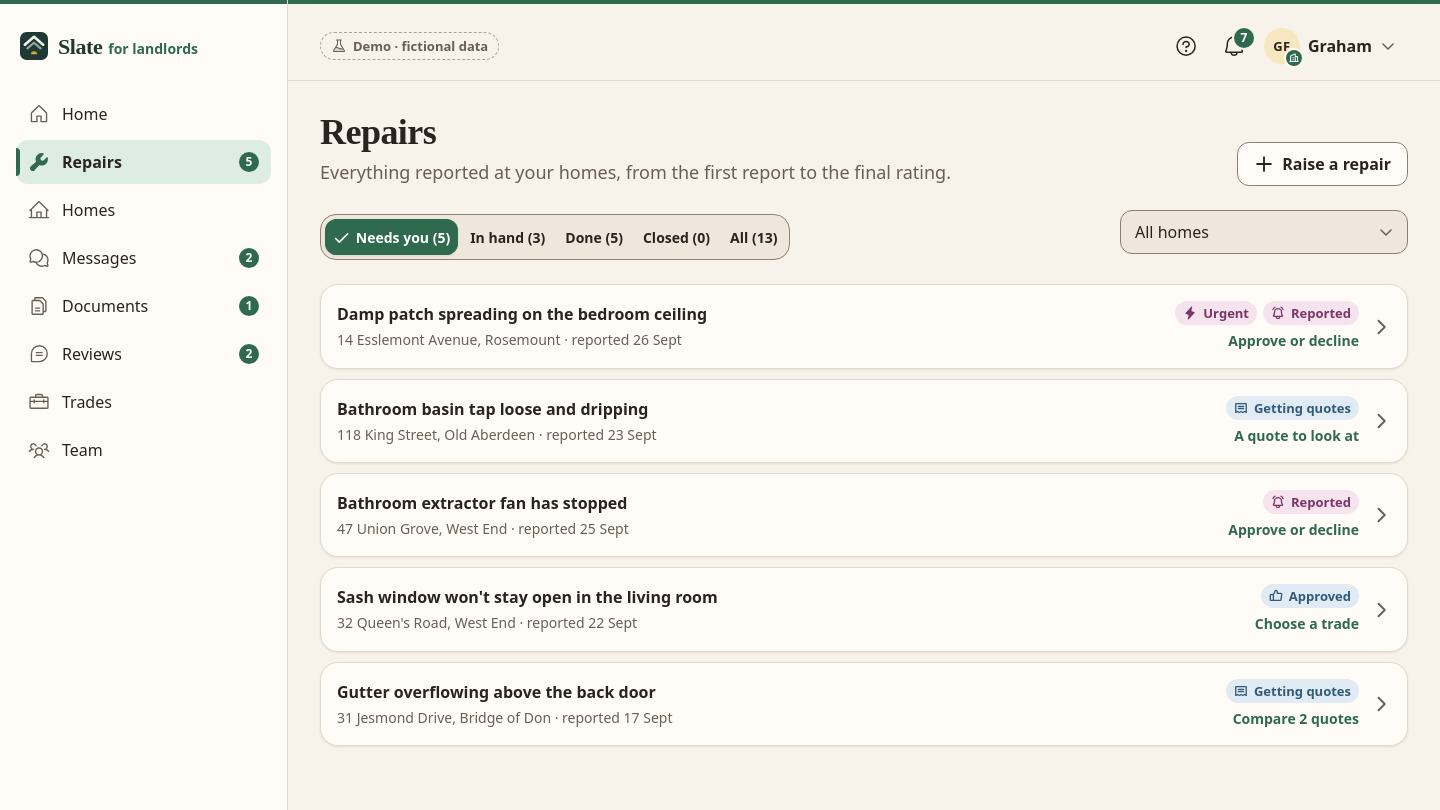
Scenario: the repairs list › filters by status and by home, and keeps the filters in the address
expect the list named "Repairs" is shown: met, box [320,284,1408,746]
Click the radio button labelled "All (13)": {"x": 754, "y": 237} [730,228,777,247]
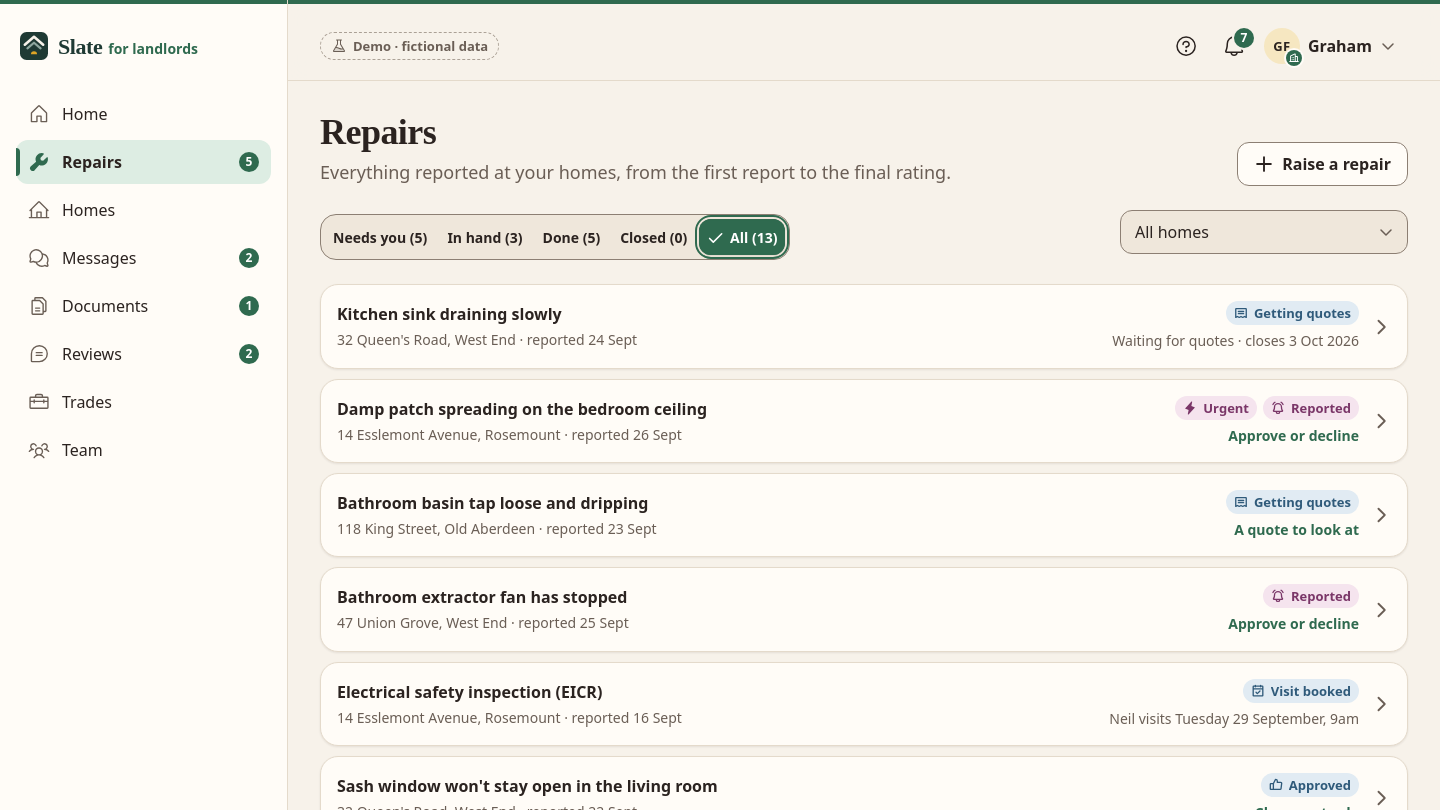
Select "14 Esslemont Avenue, Rosemount" in the dropdown named "Home": {"x": 1264, "y": 232} [1120,210,1408,254]
(page scrolled)
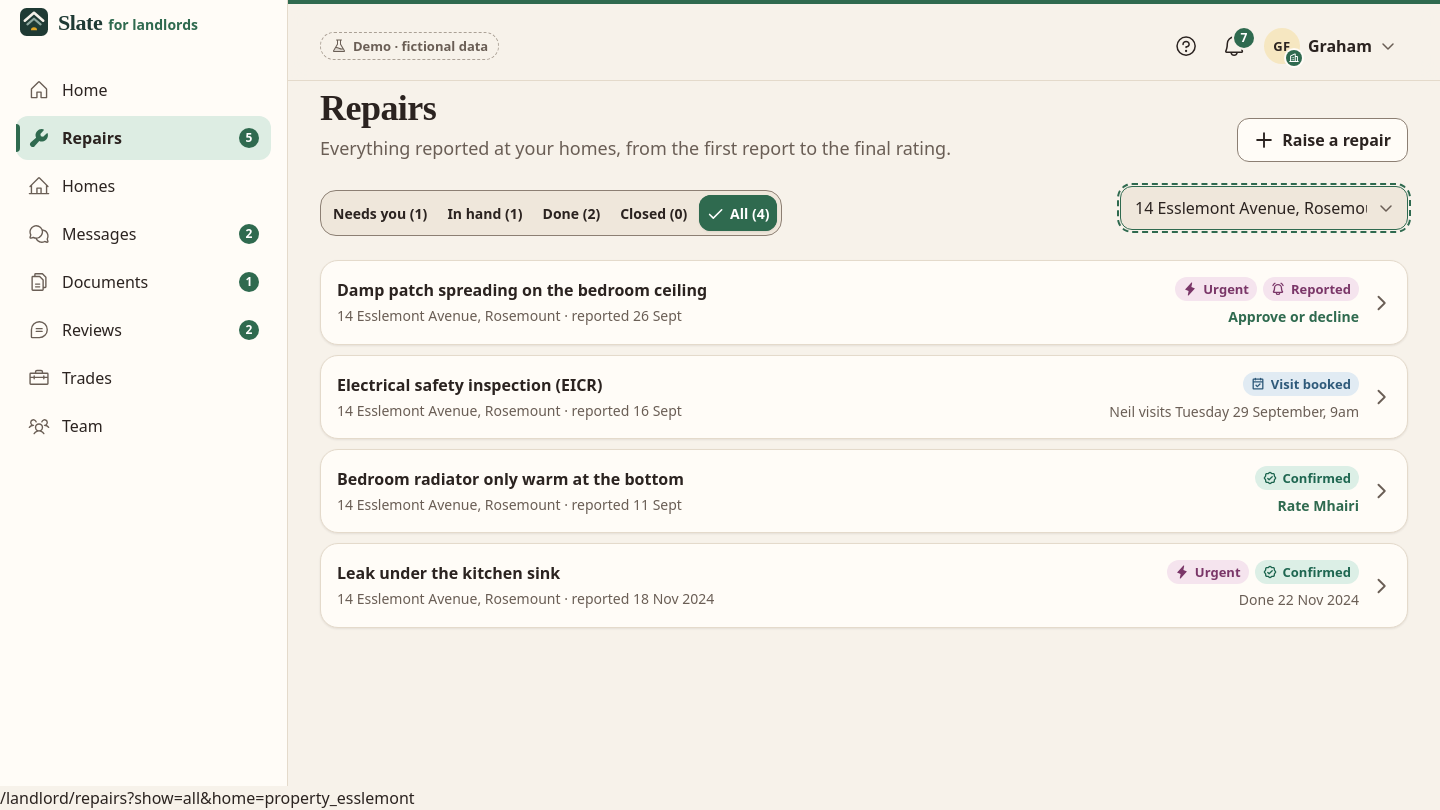
expect the text "Damp patch spreading on the bedroom ceiling" is shown: met, box [337,280,707,302]
expect the link "Gutter overflowing above the back door" does not show "Gutter overflowing above the back door": met
expect the text with test id "location" shows "home=property_esslemont": met, box [0,787,415,809]
